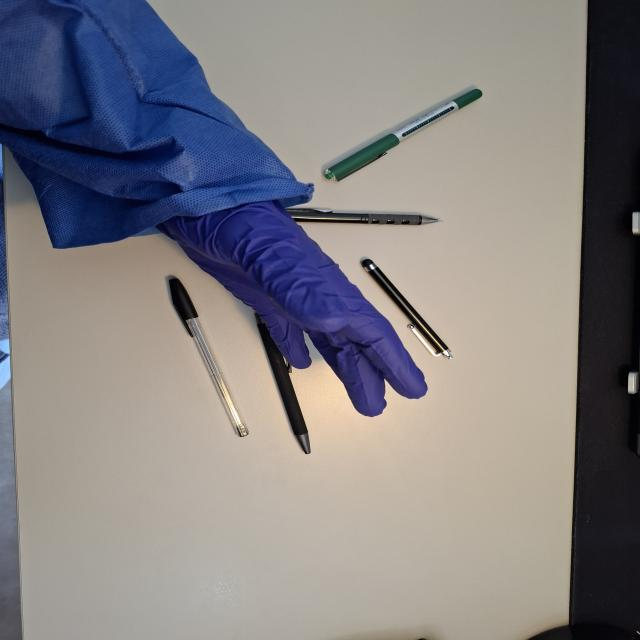glove_on: (148, 187, 432, 419)
